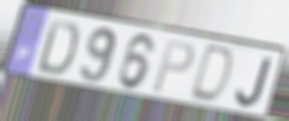6: (116, 32, 155, 93)
9: (79, 26, 117, 85)
D: (187, 42, 237, 106), (34, 17, 81, 78)
J: (234, 56, 274, 110)
P: (150, 39, 197, 96)
